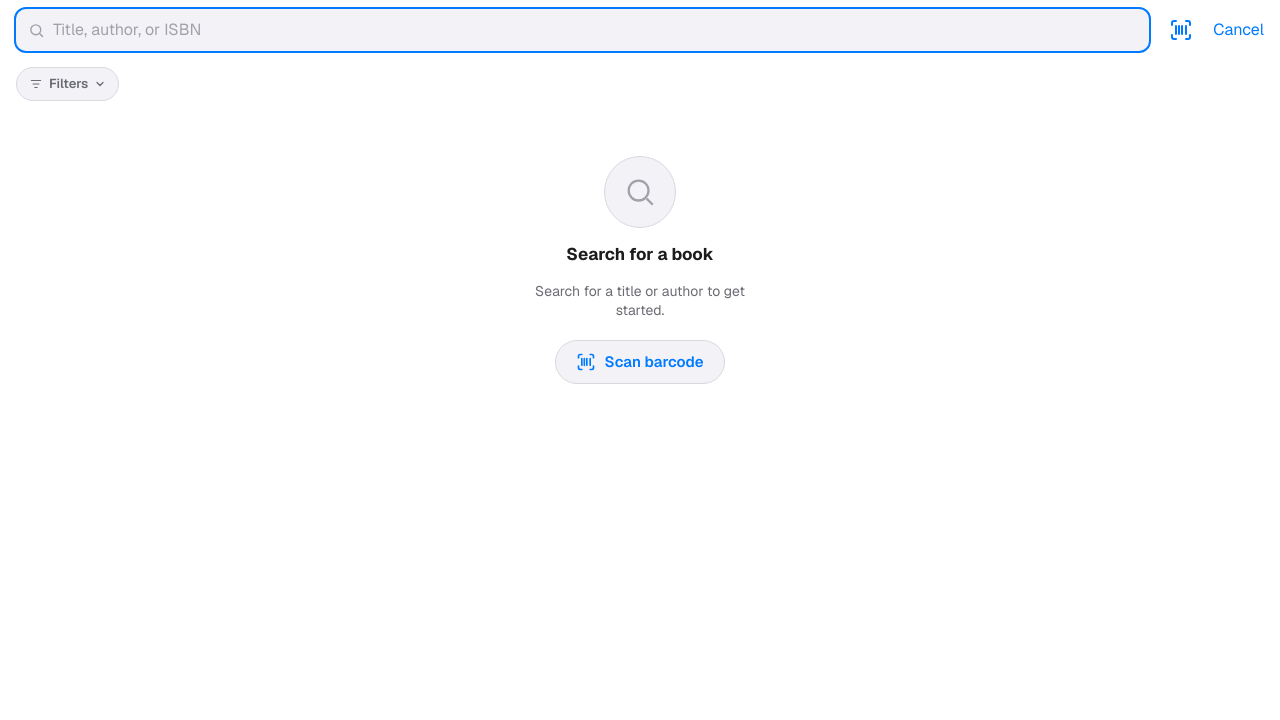
Test: BookSearch › renders the OpenLibrary group before the Google Books group regardless of API response order
Type "Dune" into the field named "Search books" at (595, 30), box [53,18,1137,42]
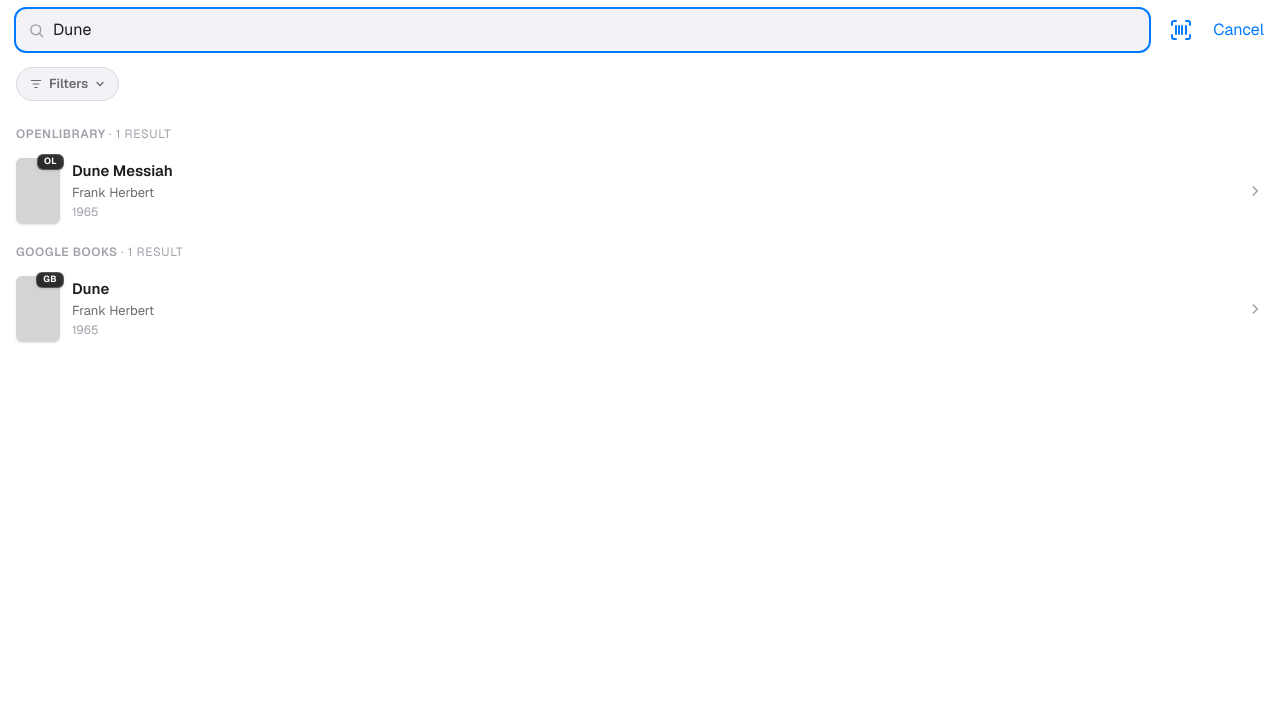
Check: the text "OpenLibrary" is shown, box [16,126,106,142]
Check: the text "Google Books" is shown, box [16,244,118,260]
